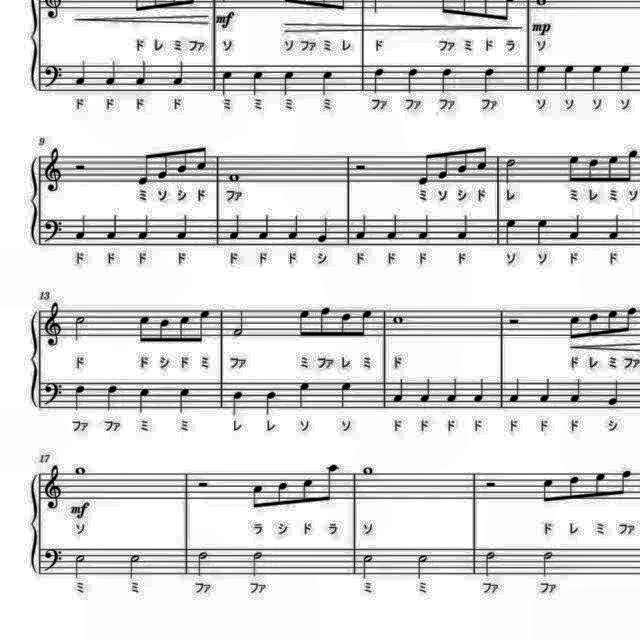Bass-clef: (40, 217, 66, 247), (41, 61, 65, 90), (41, 546, 65, 574), (42, 378, 64, 408)
Eighth-note: (324, 462, 344, 506), (196, 304, 214, 344), (135, 150, 153, 190), (415, 151, 433, 189), (298, 474, 318, 508), (250, 481, 270, 514), (564, 152, 582, 188), (135, 312, 153, 348), (616, 468, 636, 500), (624, 146, 640, 186), (296, 305, 314, 339), (591, 470, 609, 502), (318, 302, 334, 338), (540, 476, 558, 508), (273, 478, 291, 510), (154, 144, 170, 180), (565, 472, 583, 503), (176, 313, 192, 347), (438, 149, 454, 183), (623, 303, 640, 334), (604, 154, 620, 186), (358, 306, 374, 338), (474, 142, 490, 174), (174, 146, 190, 178), (194, 142, 210, 174), (586, 308, 602, 339), (604, 307, 620, 337), (586, 155, 602, 185), (158, 317, 174, 347), (338, 310, 354, 340), (566, 311, 582, 341), (456, 146, 470, 178), (639, 303, 640, 334)
Full-note: (71, 460, 91, 478), (358, 463, 376, 477), (228, 170, 245, 184), (390, 312, 406, 326)
Half-note: (71, 312, 89, 344), (540, 548, 558, 580), (195, 548, 213, 580), (249, 548, 267, 580), (482, 548, 500, 580), (501, 156, 519, 187), (359, 551, 377, 581), (413, 551, 431, 581), (126, 551, 144, 581), (232, 306, 248, 338), (72, 550, 88, 582)
Half-rest: (195, 478, 213, 492), (482, 478, 500, 492), (72, 160, 88, 174), (352, 161, 368, 175), (508, 314, 524, 326)
Quarter-note: (501, 216, 519, 248), (405, 64, 423, 96), (439, 64, 457, 96), (588, 62, 606, 94), (617, 61, 635, 93), (533, 217, 551, 249), (604, 376, 622, 408), (480, 66, 498, 98), (337, 378, 355, 410), (314, 214, 332, 246), (294, 378, 312, 409), (133, 59, 151, 90), (103, 381, 121, 412), (531, 62, 549, 92), (173, 213, 191, 243), (565, 213, 583, 243), (454, 213, 472, 243), (371, 65, 389, 95), (607, 213, 625, 243), (170, 59, 188, 89), (248, 69, 266, 99), (72, 211, 90, 241), (175, 386, 193, 416), (384, 213, 402, 243), (72, 381, 88, 413), (561, 62, 577, 94), (72, 56, 88, 88), (255, 213, 272, 243), (354, 213, 371, 243), (263, 390, 281, 418), (317, 70, 335, 98), (280, 70, 298, 98), (566, 376, 584, 404), (103, 59, 119, 90), (416, 213, 432, 243), (136, 386, 152, 416), (136, 213, 152, 243), (286, 212, 302, 242), (228, 213, 244, 243), (445, 375, 461, 405), (104, 213, 120, 243), (418, 375, 434, 405), (537, 375, 553, 405), (389, 376, 406, 404), (230, 390, 247, 418), (218, 70, 234, 98), (472, 376, 488, 404), (508, 376, 524, 404)
Treble-clef: (44, 299, 68, 349), (44, 144, 68, 194), (44, 464, 68, 512)
